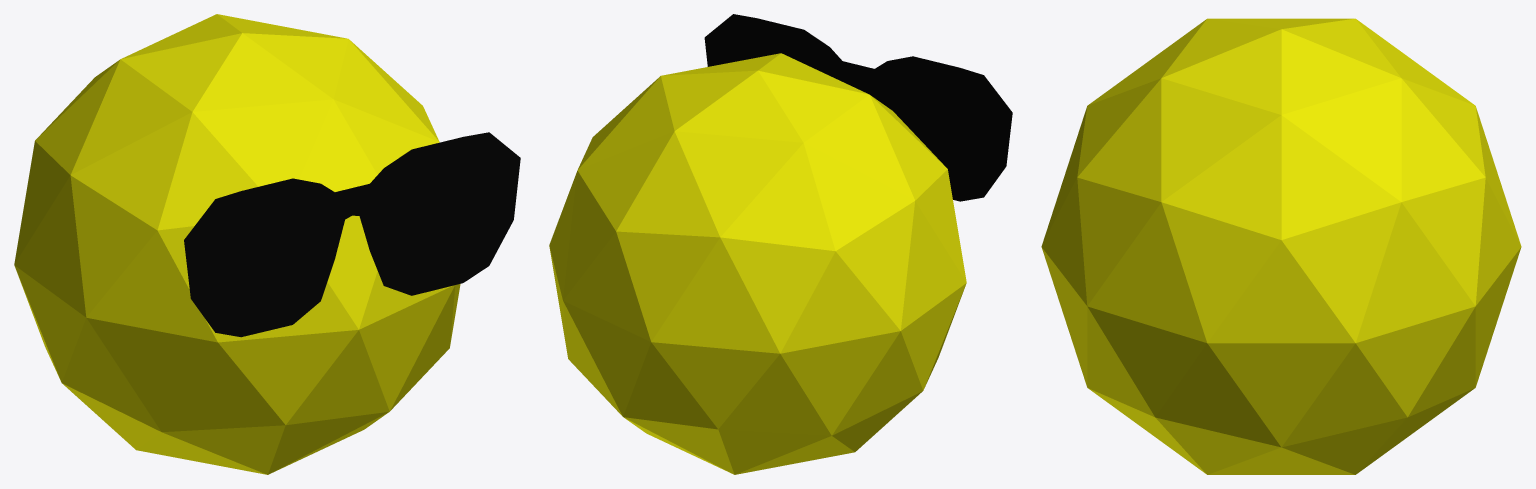
File: sun.fbx
3 renders of one model, left to right at view 1: azimuth 30°, elevation 25°; view 2: azimuth 150°, elevation 25°; view 3: azimuth 270°, elevation 25°, orthographic. The views are drawn at different scales.
Parts seen in each view (by area): view 1: Icosphere, Plane; view 2: Icosphere, Plane; view 3: Icosphere.
Boxes of the visible parts, x1=… form: Icosphere: x1=14, y1=14, x2=460, y2=474; Plane: x1=184, y1=132, x2=520, y2=337; Icosphere: x1=549, y1=53, x2=966, y2=474; Plane: x1=704, y1=14, x2=1012, y2=201; Icosphere: x1=1041, y1=18, x2=1521, y2=474.
Size of the model in its own units: 1.9 by 2 by 2.
